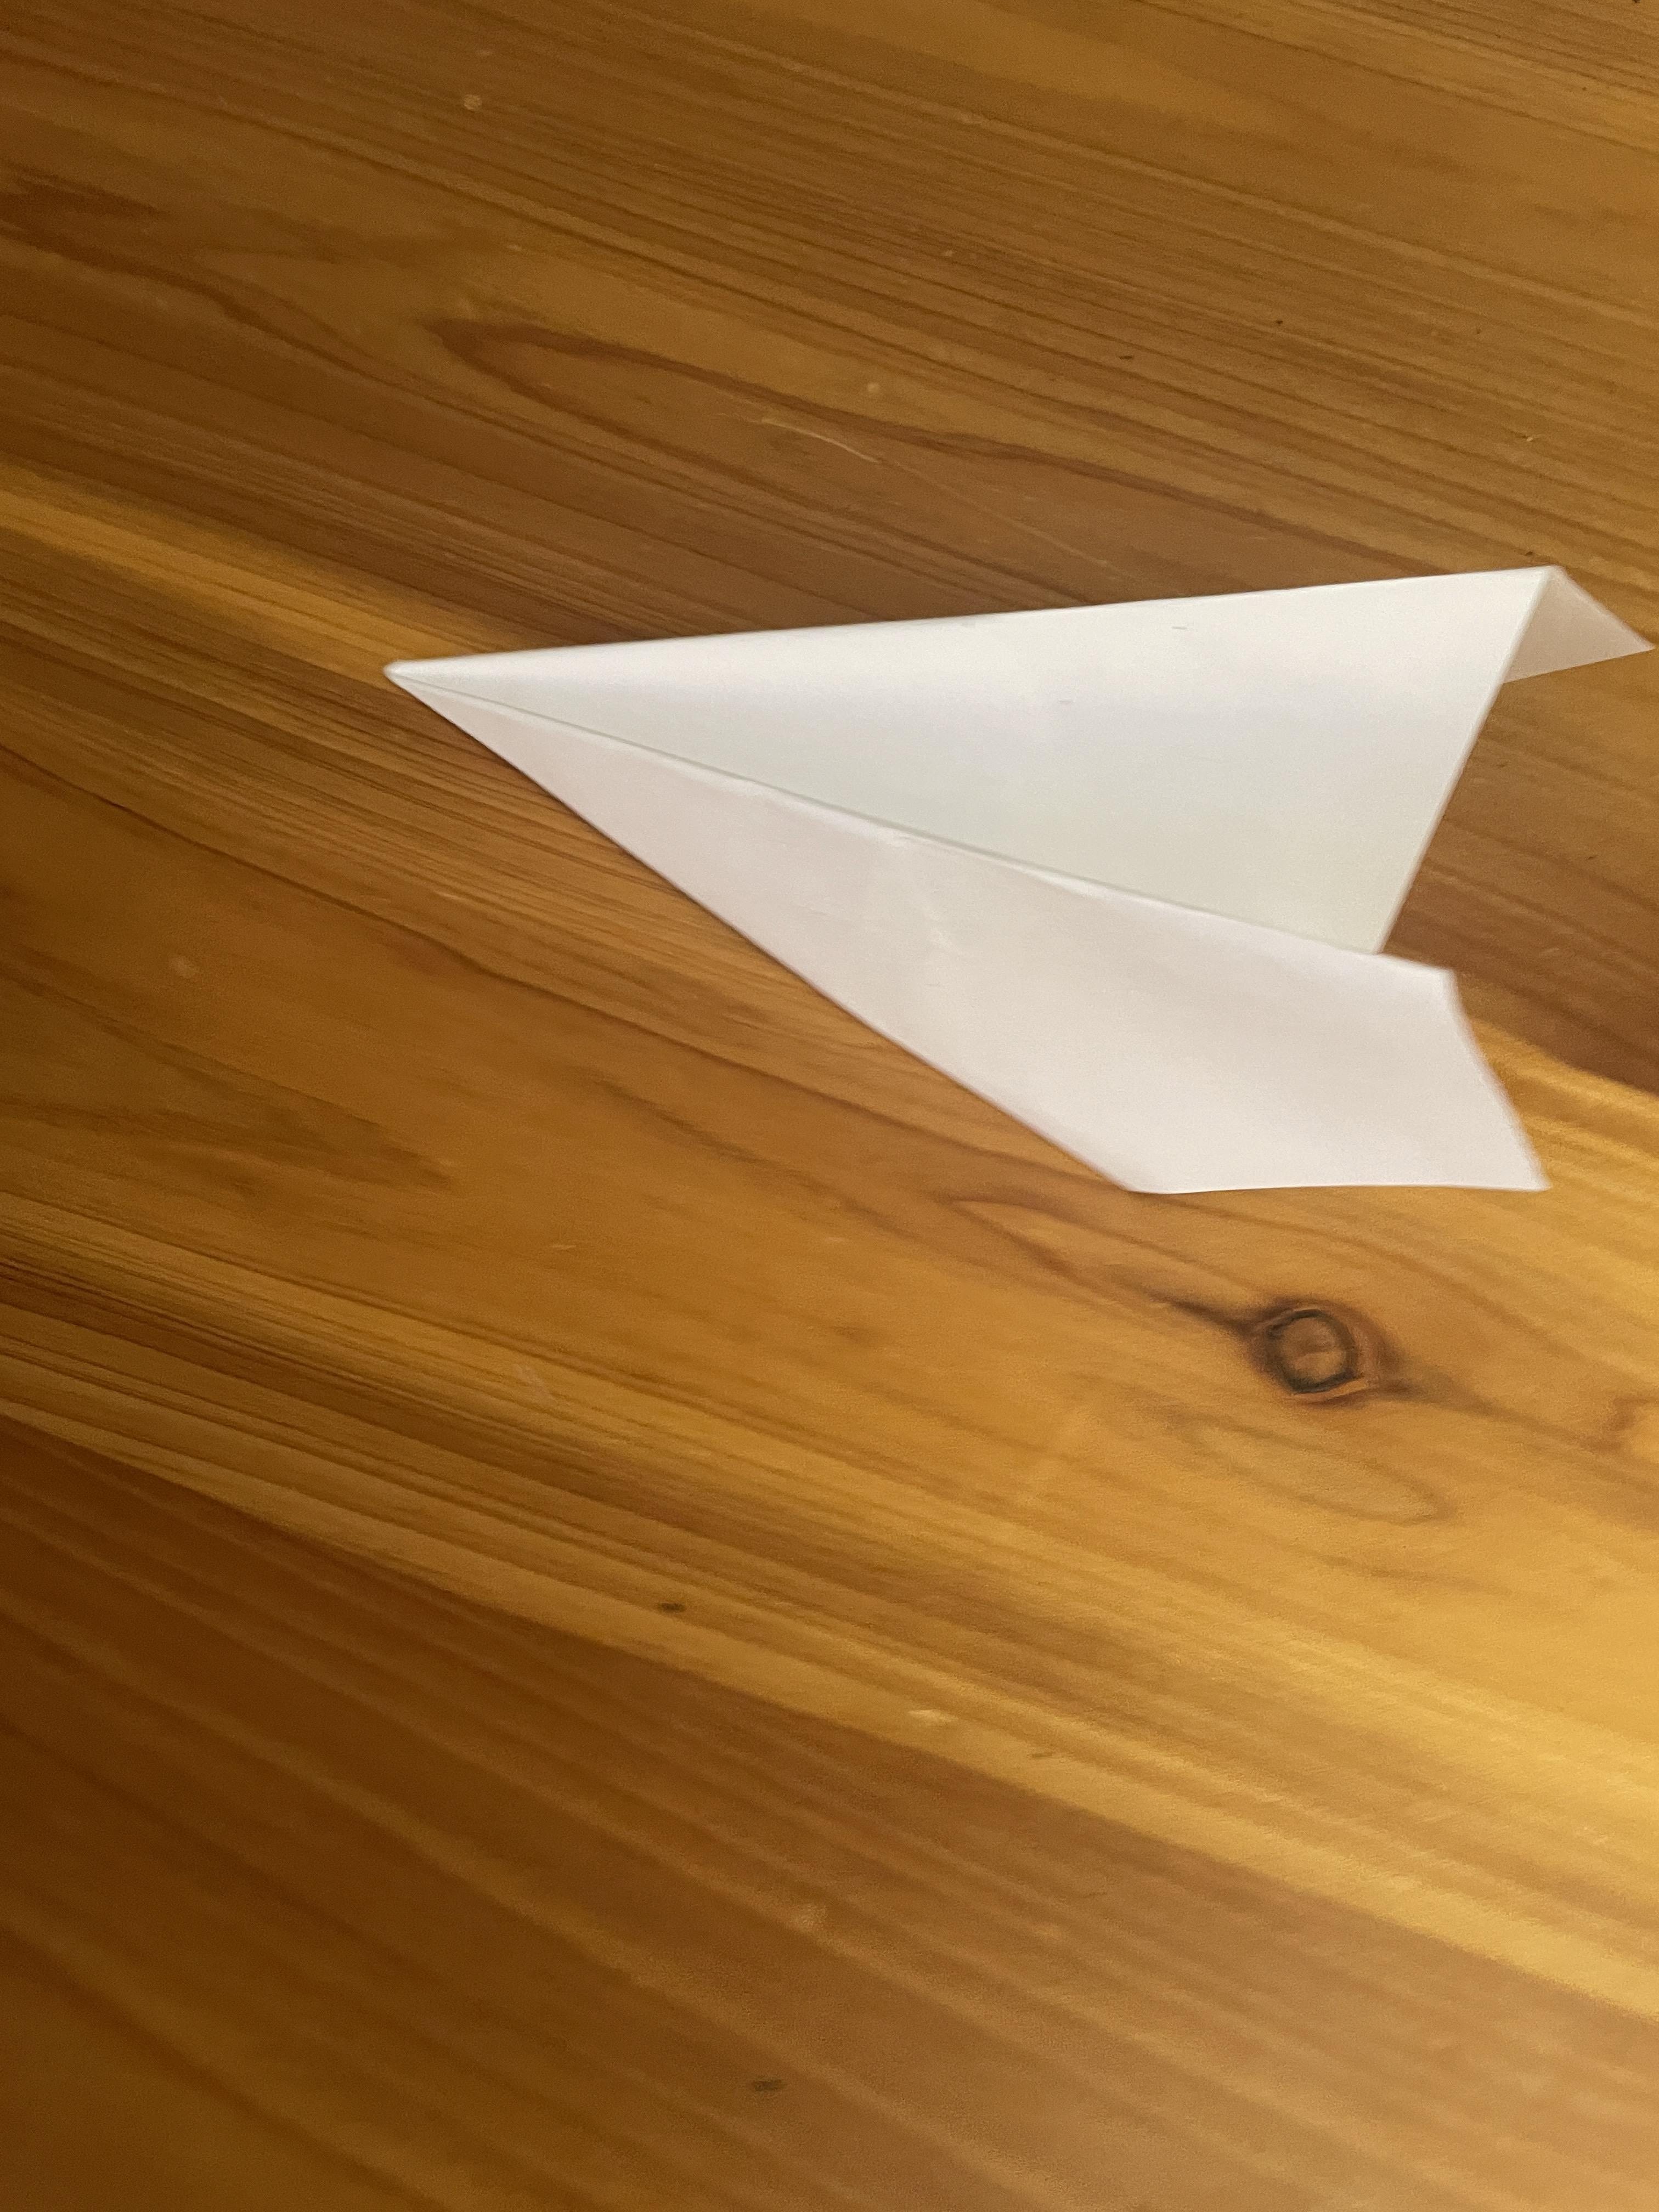shape_3: (307, 446, 1659, 1301)
